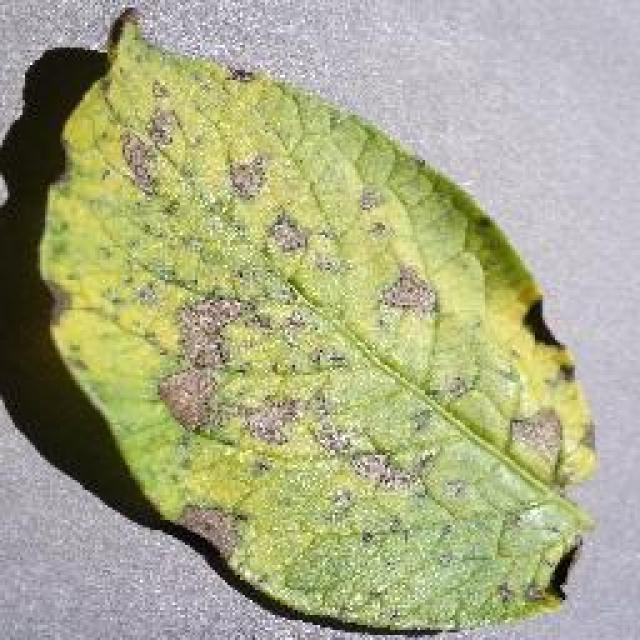early_blight: (32, 5, 600, 637)
